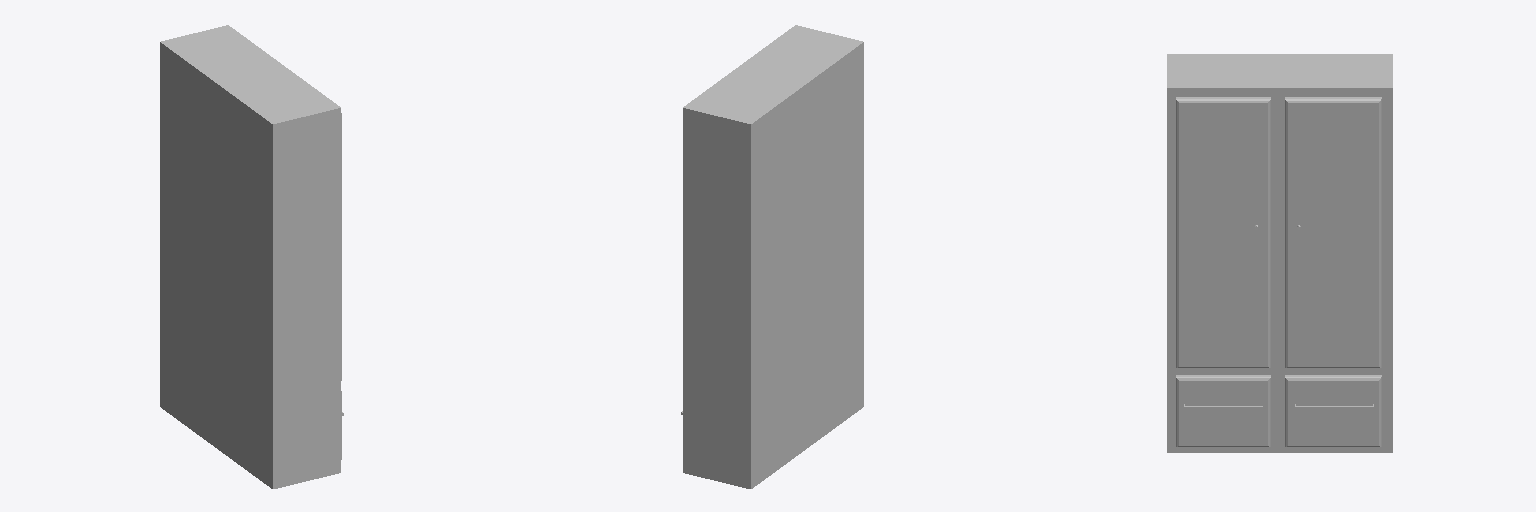
The model's file is closet.obj.
The picture shows the model from 3 angles: view 1: azimuth 30°, elevation 25°; view 2: azimuth 150°, elevation 25°; view 3: azimuth 270°, elevation 25°; orthographic projection.
Visible parts, largest first — view 1: shrank; view 2: shrank; view 3: shrank.
Part boxes in pixels (left/top/right/bottom): shrank: left=160, top=25, right=343, bottom=488; shrank: left=681, top=25, right=863, bottom=488; shrank: left=1167, top=54, right=1392, bottom=452.
Size of the model in its own units: 1.16 by 5.08 by 2.85.